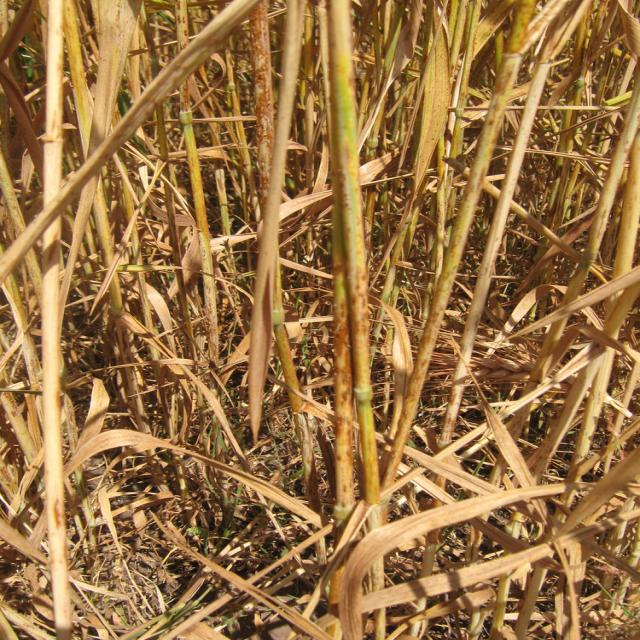wheat-stemrust: (332, 233, 365, 445)
